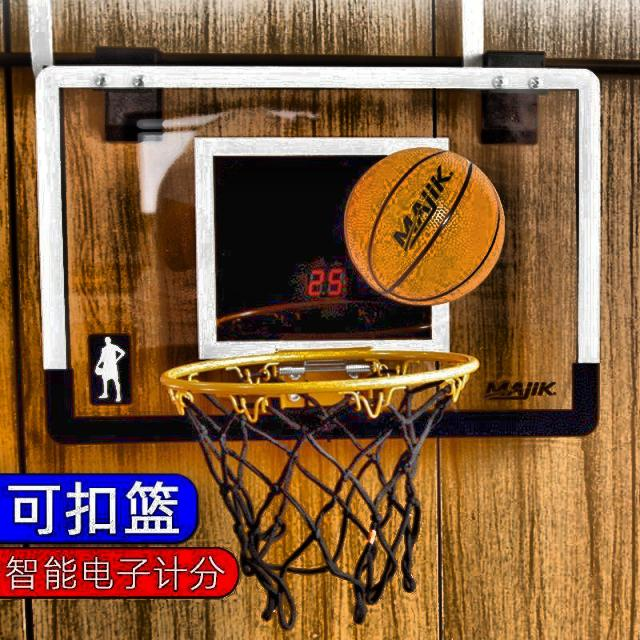board: (346, 146, 507, 307)
rim: (166, 349, 480, 619)
